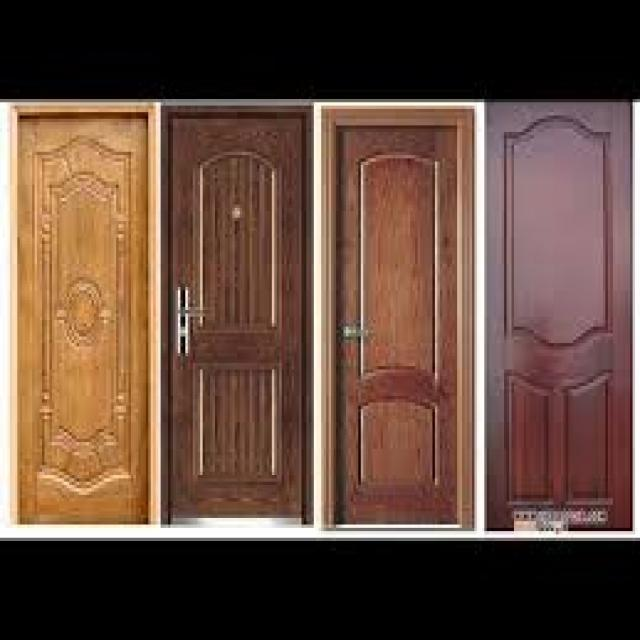door: (326, 108, 472, 528), (163, 107, 307, 525)
